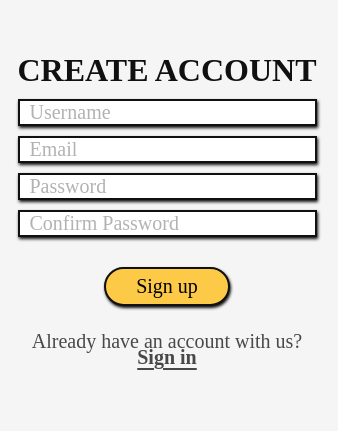
Test case: Input Fields › should have input required validation rule for each field
Click the button "Sign up" at x=167, y=286, box [104, 266, 230, 306]
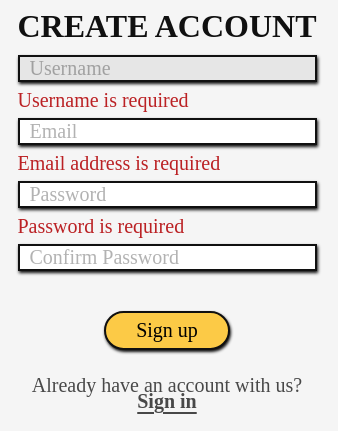
Expected: the text "Username is required" is shown, [18, 88, 188, 110]
Expected: the text "Email address is required" is shown, [18, 152, 220, 174]
Expected: the text "Password is required" is shown, [18, 214, 184, 236]
